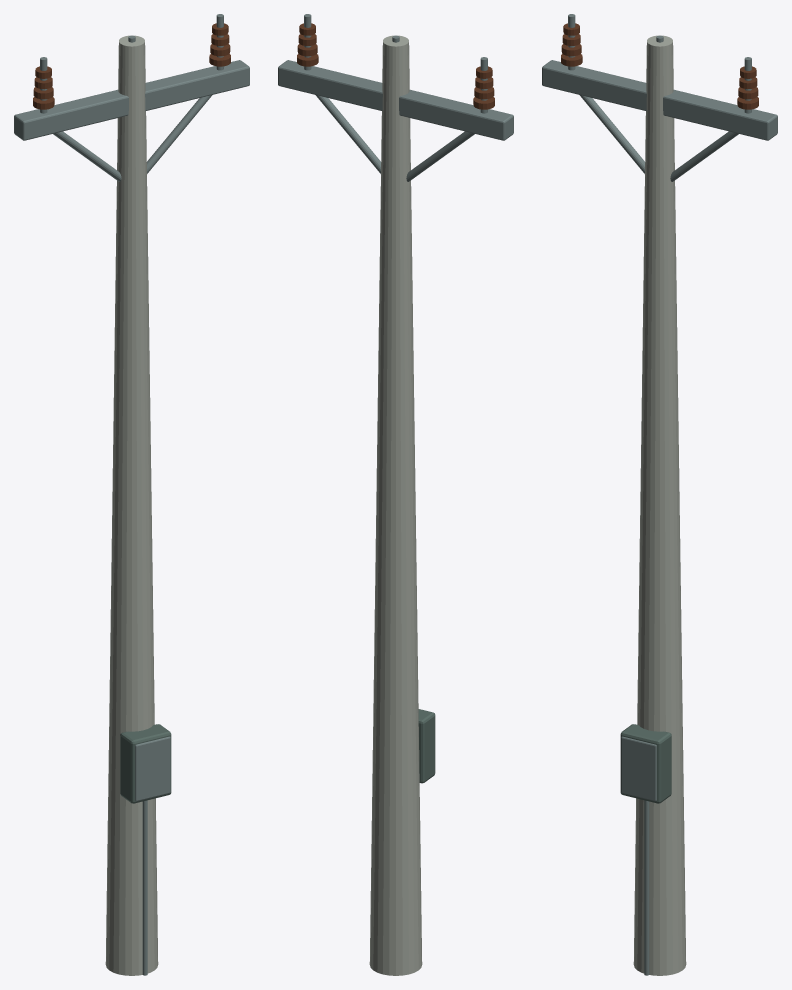
The model's file is street-utility-pole.glb.
The picture shows the model from 3 angles, left to right: view 1: azimuth 30°, elevation 25°; view 2: azimuth 150°, elevation 25°; view 3: azimuth 330°, elevation 25°; orthographic projection.
Parts seen in each view (by area): view 1: POLE_Tapered, CROSSARM, BOX_Door, BOX_Casing, CONDUIT, BRACE_0.65, BRACE_-0.65; view 2: POLE_Tapered, CROSSARM, BOX_Casing, BRACE_0.65, BRACE_-0.65; view 3: POLE_Tapered, CROSSARM, BOX_Door, BOX_Casing, CONDUIT, BRACE_-0.65, BRACE_0.65.
Boxes of the visible parts, x1,y1,x2,y2 form: POLE_Tapered: (105, 35, 158, 975); CROSSARM: (14, 60, 249, 140); BOX_Door: (135, 736, 170, 801); BOX_Casing: (120, 724, 171, 803); CONDUIT: (142, 800, 147, 975); BRACE_0.65: (146, 95, 212, 173); BRACE_-0.65: (53, 131, 121, 181); POLE_Tapered: (369, 35, 422, 975); CROSSARM: (278, 60, 513, 140); BOX_Casing: (418, 709, 435, 783); BRACE_0.65: (315, 95, 381, 173); BRACE_-0.65: (406, 131, 474, 181); POLE_Tapered: (633, 35, 686, 975); CROSSARM: (542, 60, 777, 140); BOX_Door: (621, 736, 656, 801); BOX_Casing: (620, 724, 671, 803); CONDUIT: (644, 800, 649, 975); BRACE_-0.65: (579, 95, 645, 173); BRACE_0.65: (670, 131, 738, 181).
Size of the model in its own units: 1.8 by 7.03 by 0.476.
